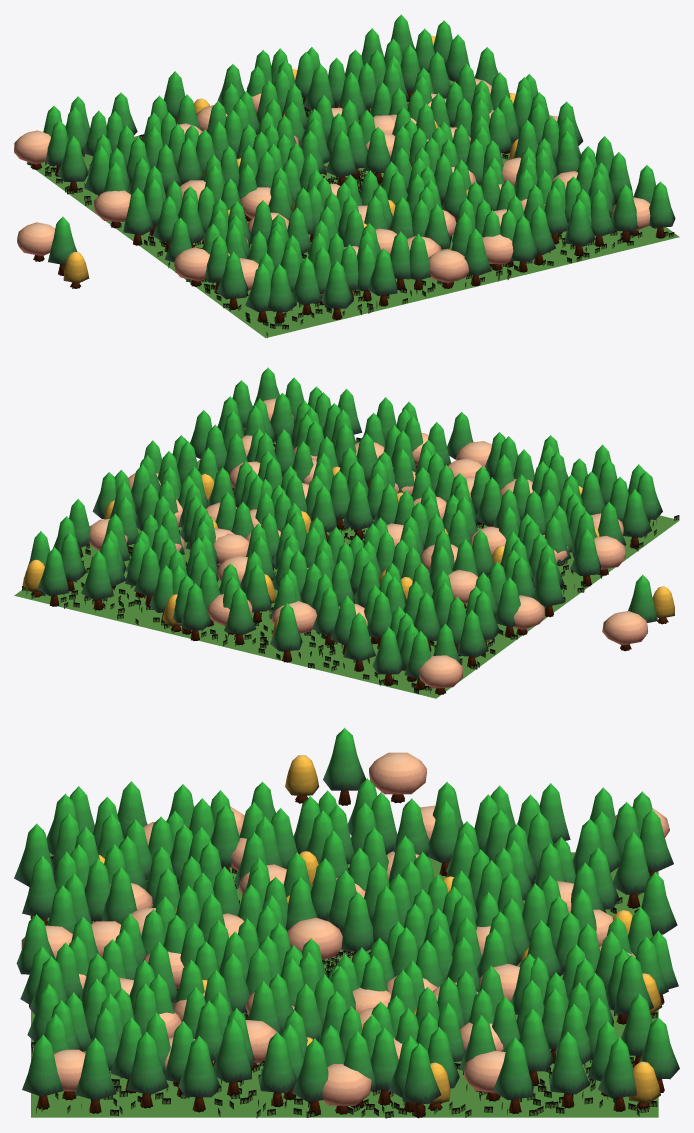
File: camp.fbx
The picture shows the model from 3 angles, top to bottom: view 1: azimuth 30°, elevation 25°; view 2: azimuth 150°, elevation 25°; view 3: azimuth 270°, elevation 25°; orthographic projection. The views are drawn at different scales.
Parts seen in each view (by area): view 1: Terrain_Far, Maple.027, Pine.115, Maple, Pine.119, Pine.110, Pine.151, Maple.023, Pine.121, Maple.011, Pine.186, Pine.228 (+80 smaller); view 2: Terrain_Far, Maple, Maple.011, Pine.088, Pine.020, Pine.033, Pine.067, Pine.068, Pine.119, Pine.151, Pine.100, Pine.039 (+82 smaller); view 3: Terrain_Far, Maple, Pine, Pine.180, Pine.055, Pine.008, Pine.188, Pine.179, Pine.192, Maple.034, Pine.211, Pine.068 (+162 smaller).
Part boxes in pixels (left/top/right/bottom): Terrain_Far: left=26, top=80, right=679, bottom=338; Maple.027: left=428, top=249, right=469, bottom=288; Pine.115: left=321, top=261, right=353, bottom=319; Maple: left=17, top=222, right=55, bottom=261; Pine.119: left=216, top=251, right=248, bottom=309; Pine.110: left=368, top=248, right=397, bottom=306; Pine.151: left=123, top=187, right=154, bottom=245; Maple.023: left=94, top=190, right=130, bottom=228; Pine.121: left=267, top=264, right=296, bottom=322; Maple.011: left=14, top=130, right=50, bottom=169; Pine.186: left=565, top=199, right=595, bottom=256; Pine.228: left=292, top=257, right=321, bottom=315; Terrain_Far: left=14, top=427, right=679, bottom=698; Maple: left=602, top=611, right=647, bottom=651; Maple.011: left=418, top=655, right=462, bottom=694; Pine.088: left=270, top=603, right=302, bottom=662; Pine.020: left=81, top=550, right=113, bottom=610; Pine.033: left=37, top=547, right=68, bottom=606; Pine.067: left=372, top=627, right=402, bottom=685; Pine.068: left=343, top=612, right=375, bottom=671; Pine.119: left=622, top=489, right=651, bottom=548; Pine.151: left=533, top=558, right=564, bottom=617; Pine.100: left=181, top=583, right=211, bottom=640; Pine.039: left=342, top=481, right=373, bottom=539; Terrain_Far: left=31, top=852, right=658, bottom=1117; Maple: left=369, top=752, right=426, bottom=803; Pine: left=323, top=727, right=365, bottom=805; Pine.180: left=178, top=1036, right=220, bottom=1112; Pine.055: left=493, top=1037, right=533, bottom=1113; Pine.008: left=549, top=1032, right=590, bottom=1108; Pine.188: left=213, top=1019, right=251, bottom=1096; Pine.179: left=127, top=1031, right=168, bottom=1108; Pine.192: left=74, top=1038, right=116, bottom=1113; Maple.034: left=322, top=1064, right=371, bottom=1114; Pine.211: left=258, top=1032, right=296, bottom=1107; Pine.068: left=613, top=832, right=650, bottom=908.
Bounding box in the file's own units: 12722 × 1434 × 10513.
9 materials, 7 textured.
